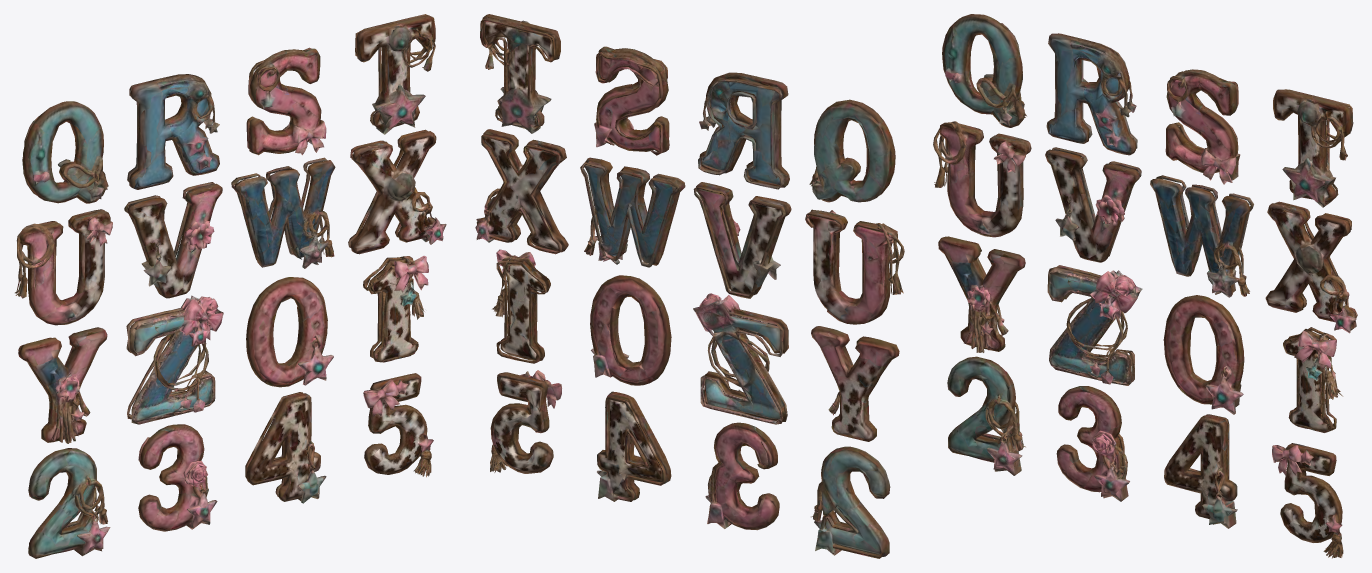
3 renders of one model, left to right at view 1: azimuth 30°, elevation 25°; view 2: azimuth 150°, elevation 25°; view 3: azimuth 330°, elevation 25°, orthographic.
Parts seen in each view (by area): view 1: Mesh 7, Mesh 9, Mesh 6, Mesh 14, Mesh 1, Mesh 10, Mesh 3, Mesh 4, Mesh 12, Mesh 5, Mesh 15, Mesh 13 (+4 smaller); view 2: Mesh 7, Mesh 6, Mesh 9, Mesh 14, Mesh 1, Mesh 3, Mesh 4, Mesh 5, Mesh 10, Mesh 12, Mesh 15, Mesh 8 (+4 smaller); view 3: Mesh 7, Mesh 6, Mesh 9, Mesh 14, Mesh 1, Mesh 12, Mesh 3, Mesh 10, Mesh 5, Mesh 4, Mesh 15, Mesh 8 (+4 smaller).
Boxes of the visible parts, x1,y1,x2,y2 form: Mesh 7: (126,295,223,424); Mesh 9: (231,157,335,268); Mesh 6: (127,74,219,189); Mesh 14: (348,129,446,254); Mesh 1: (15,209,112,325); Mesh 10: (246,277,333,387); Mesh 3: (22,101,108,203); Mesh 4: (28,448,110,558); Mesh 12: (246,47,326,155); Mesh 5: (124,182,222,298); Mesh 15: (355,14,435,134); Mesh 13: (245,392,326,503); Mesh 7: (693,293,788,424); Mesh 6: (698,72,789,189); Mesh 9: (580,157,685,267); Mesh 14: (475,129,568,254); Mesh 1: (805,209,904,324); Mesh 3: (809,99,895,202); Mesh 4: (811,446,890,558); Mesh 5: (693,182,791,298); Mesh 10: (590,275,671,385); Mesh 12: (594,46,669,155); Mesh 15: (480,14,560,133); Mesh 8: (705,422,779,530); Mesh 7: (1047,265,1142,385); Mesh 6: (1046,33,1137,155); Mesh 9: (1150,175,1253,297); Mesh 14: (1265,201,1357,333); Mesh 1: (933,121,1031,237); Mesh 12: (1165,69,1240,184); Mesh 3: (942,14,1026,127); Mesh 10: (1163,295,1244,414); Mesh 5: (1045,147,1141,262); Mesh 4: (947,356,1025,475); Mesh 15: (1273,89,1353,207); Mesh 8: (1056,386,1129,501).
Bounding box in the file's own units: 1.86 × 1.9 × 0.1207.
Materials: 16 (16 with a texture image).
